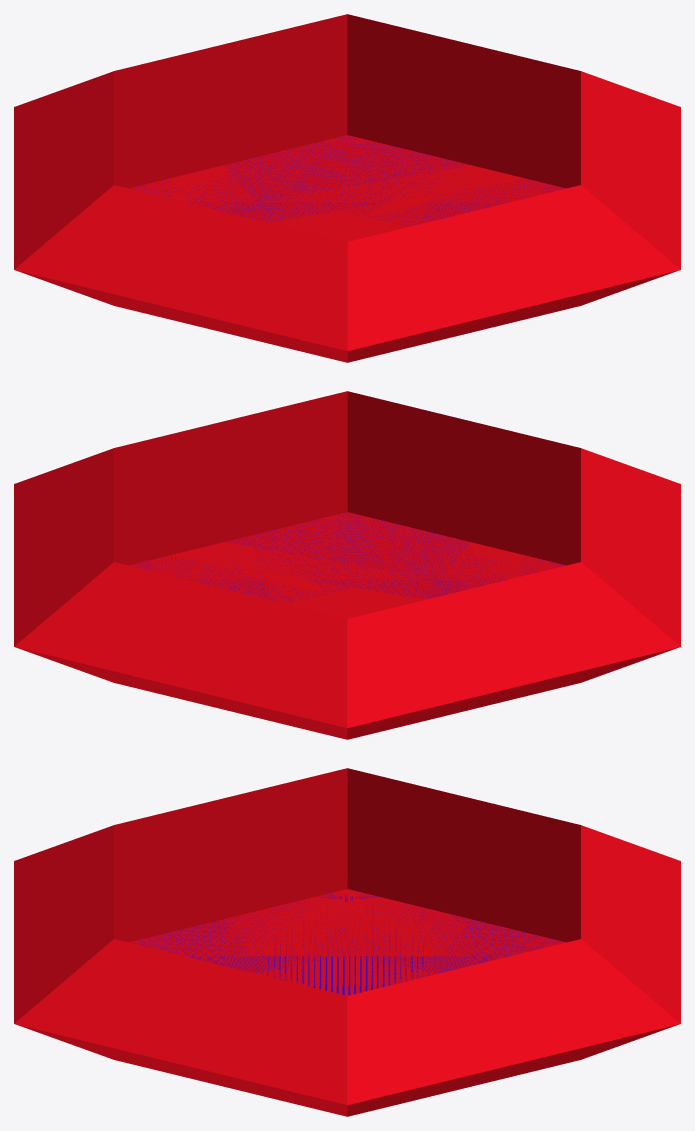
File: Gate.fbx
3 views of the same model, one above another, from view 1: azimuth 30°, elevation 25°; view 2: azimuth 150°, elevation 25°; view 3: azimuth 270°, elevation 25° (orthographic).
Parts seen in each view (by area): view 1: トーラス; view 2: トーラス; view 3: トーラス.
Part boxes in pixels (x1,y1,x2,y2): トーラス: (14,14,680,362); トーラス: (14,391,680,739); トーラス: (14,768,680,1116).
Size of the model in its own units: 2.5 by 0.433 by 2.17.
